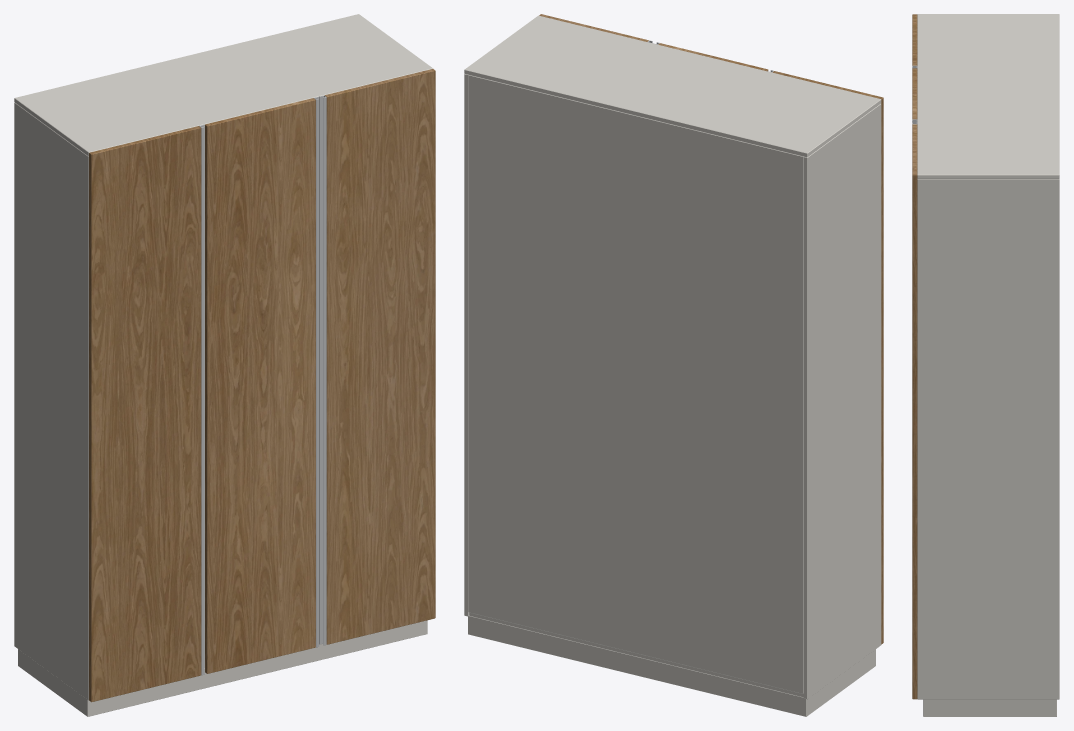
The model's file is armario_roble_3p_150.glb.
3 renders of one model, left to right at view 1: azimuth 30°, elevation 25°; view 2: azimuth 150°, elevation 25°; view 3: azimuth 270°, elevation 25°, orthographic. The views are drawn at different scales.
Parts seen in each view (by area): view 1: armario_roble_3p_150; view 2: armario_roble_3p_150; view 3: armario_roble_3p_150.
Part boxes in pixels (left/top/right/bottom): armario_roble_3p_150: left=14, top=14, right=435, bottom=716; armario_roble_3p_150: left=464, top=14, right=883, bottom=716; armario_roble_3p_150: left=912, top=14, right=1059, bottom=716.
Size of the model in its own units: 1.5 by 2.36 by 0.5799.
Materials: 3 (1 with a texture image).
